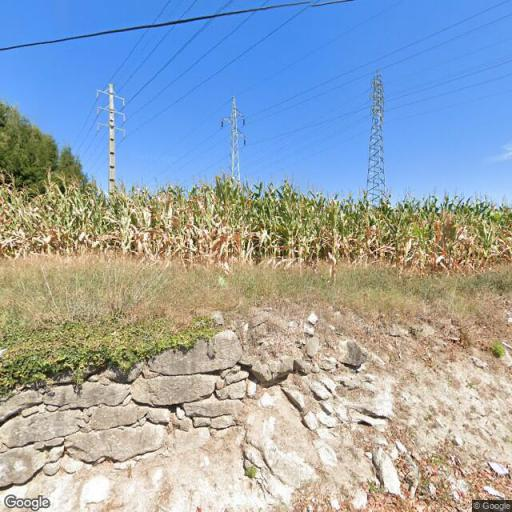mono_9: (95, 81, 129, 195)
ss_3: (362, 71, 389, 202)
ss_4: (219, 96, 248, 184)
